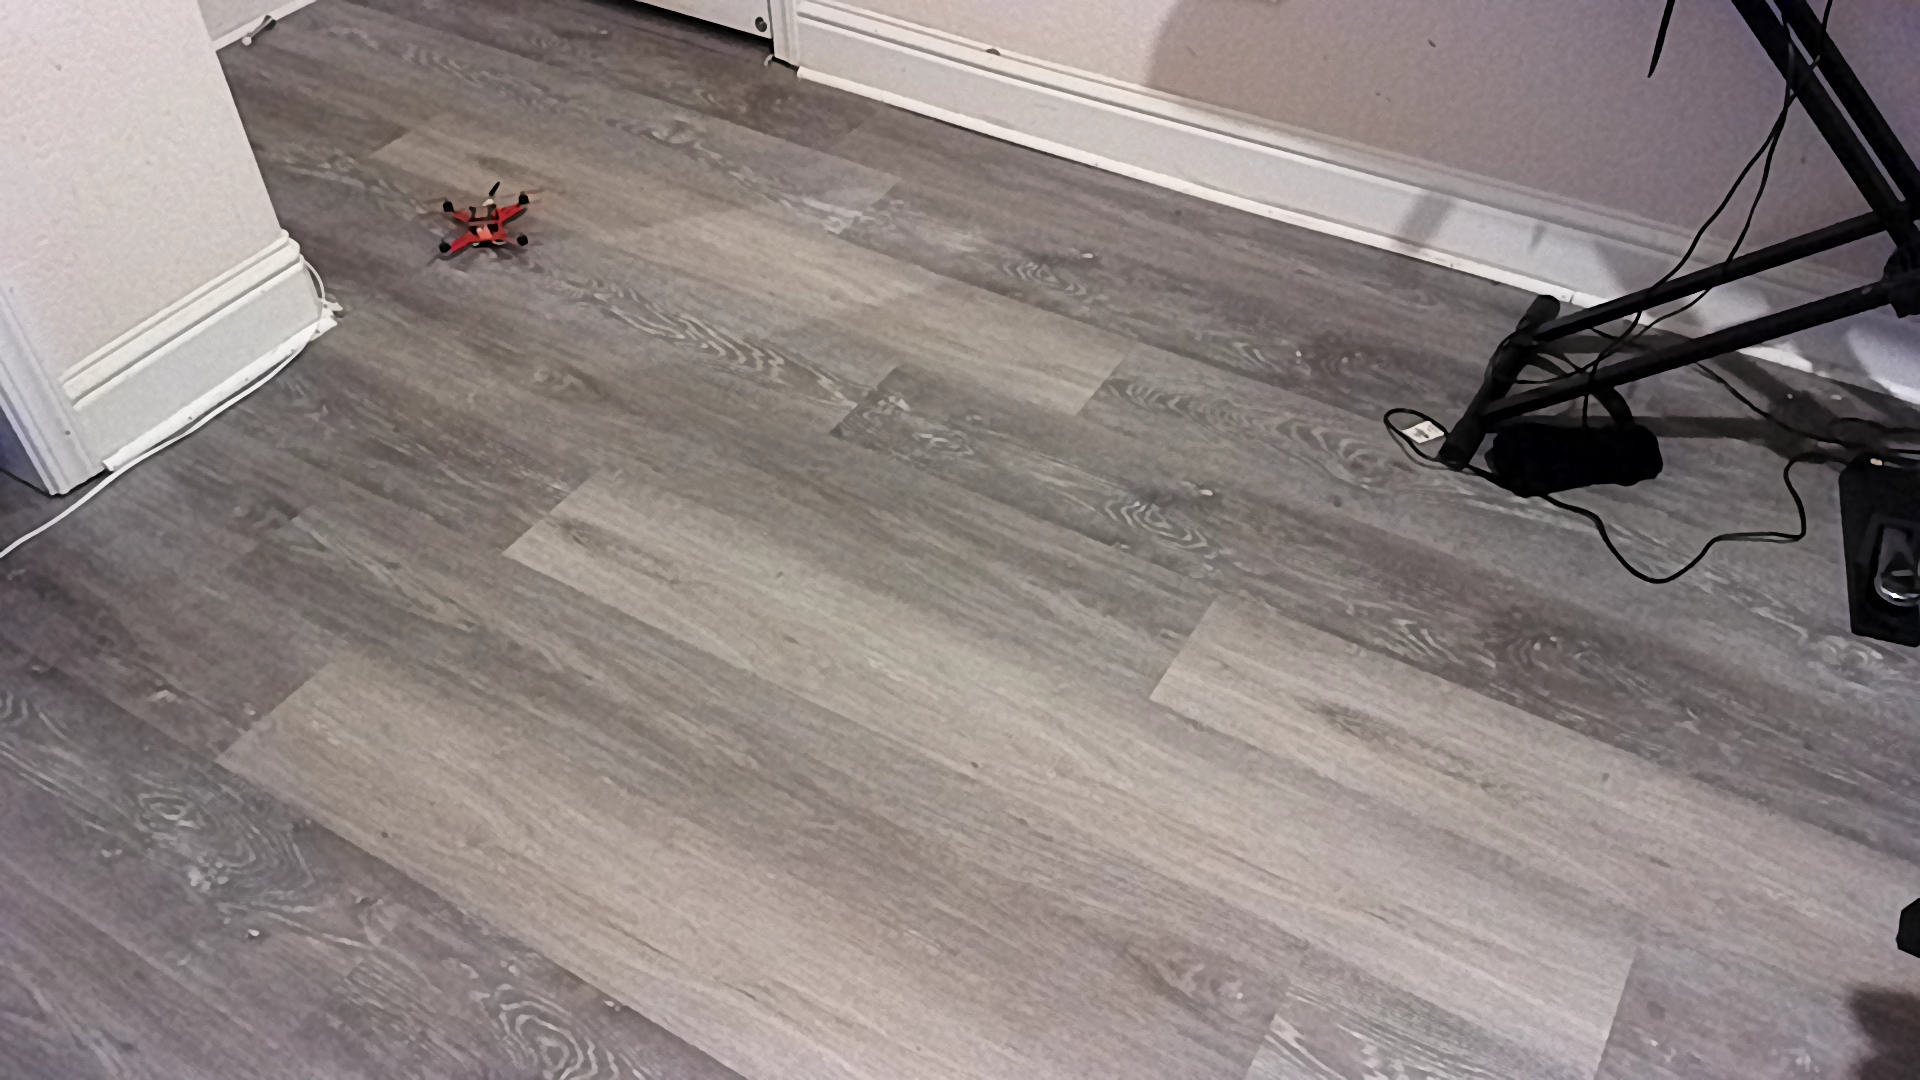drone: (398, 169, 576, 278)
